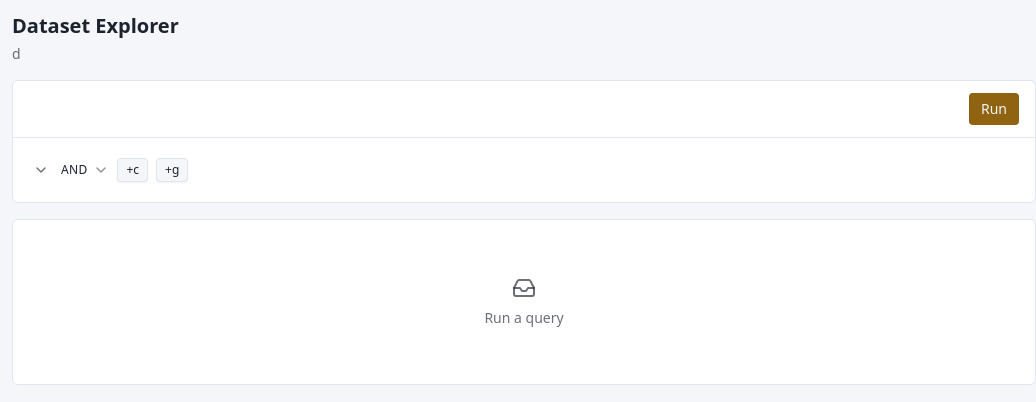
Test: DatasetExplorer › runs a query and renders matched datasets
Click the button "Run".
click(994, 109)  # box [969,93,1019,125]
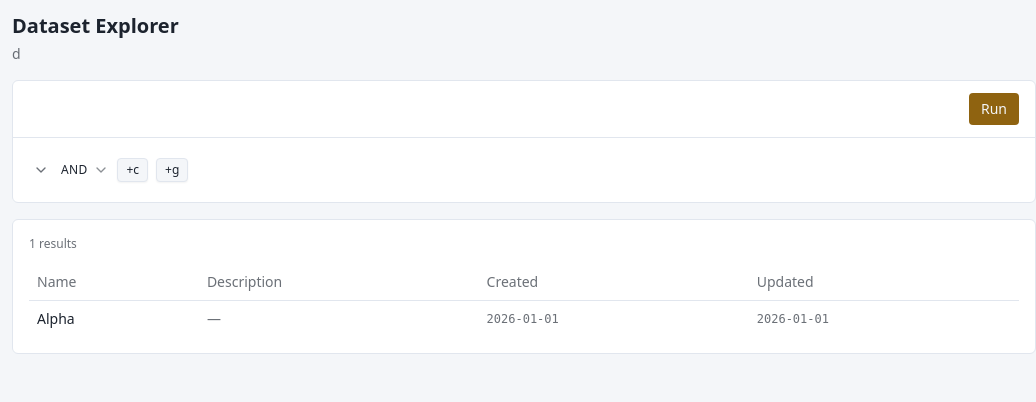
Check: the text "Alpha" is shown, box [29,300,199,336]
